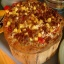pizza: (5, 1, 63, 49)
